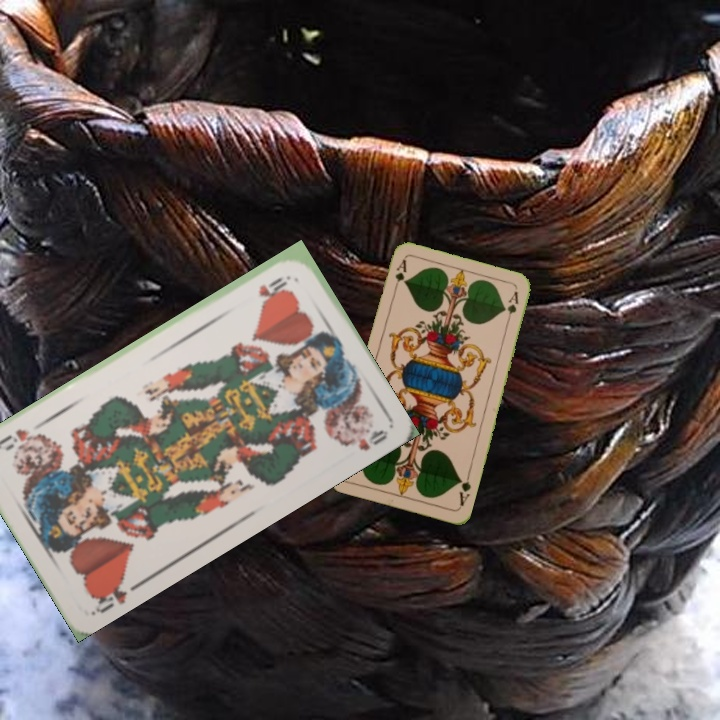GA: (389, 255, 409, 295), (455, 469, 474, 508)
HO: (88, 574, 130, 617), (254, 270, 294, 300)
